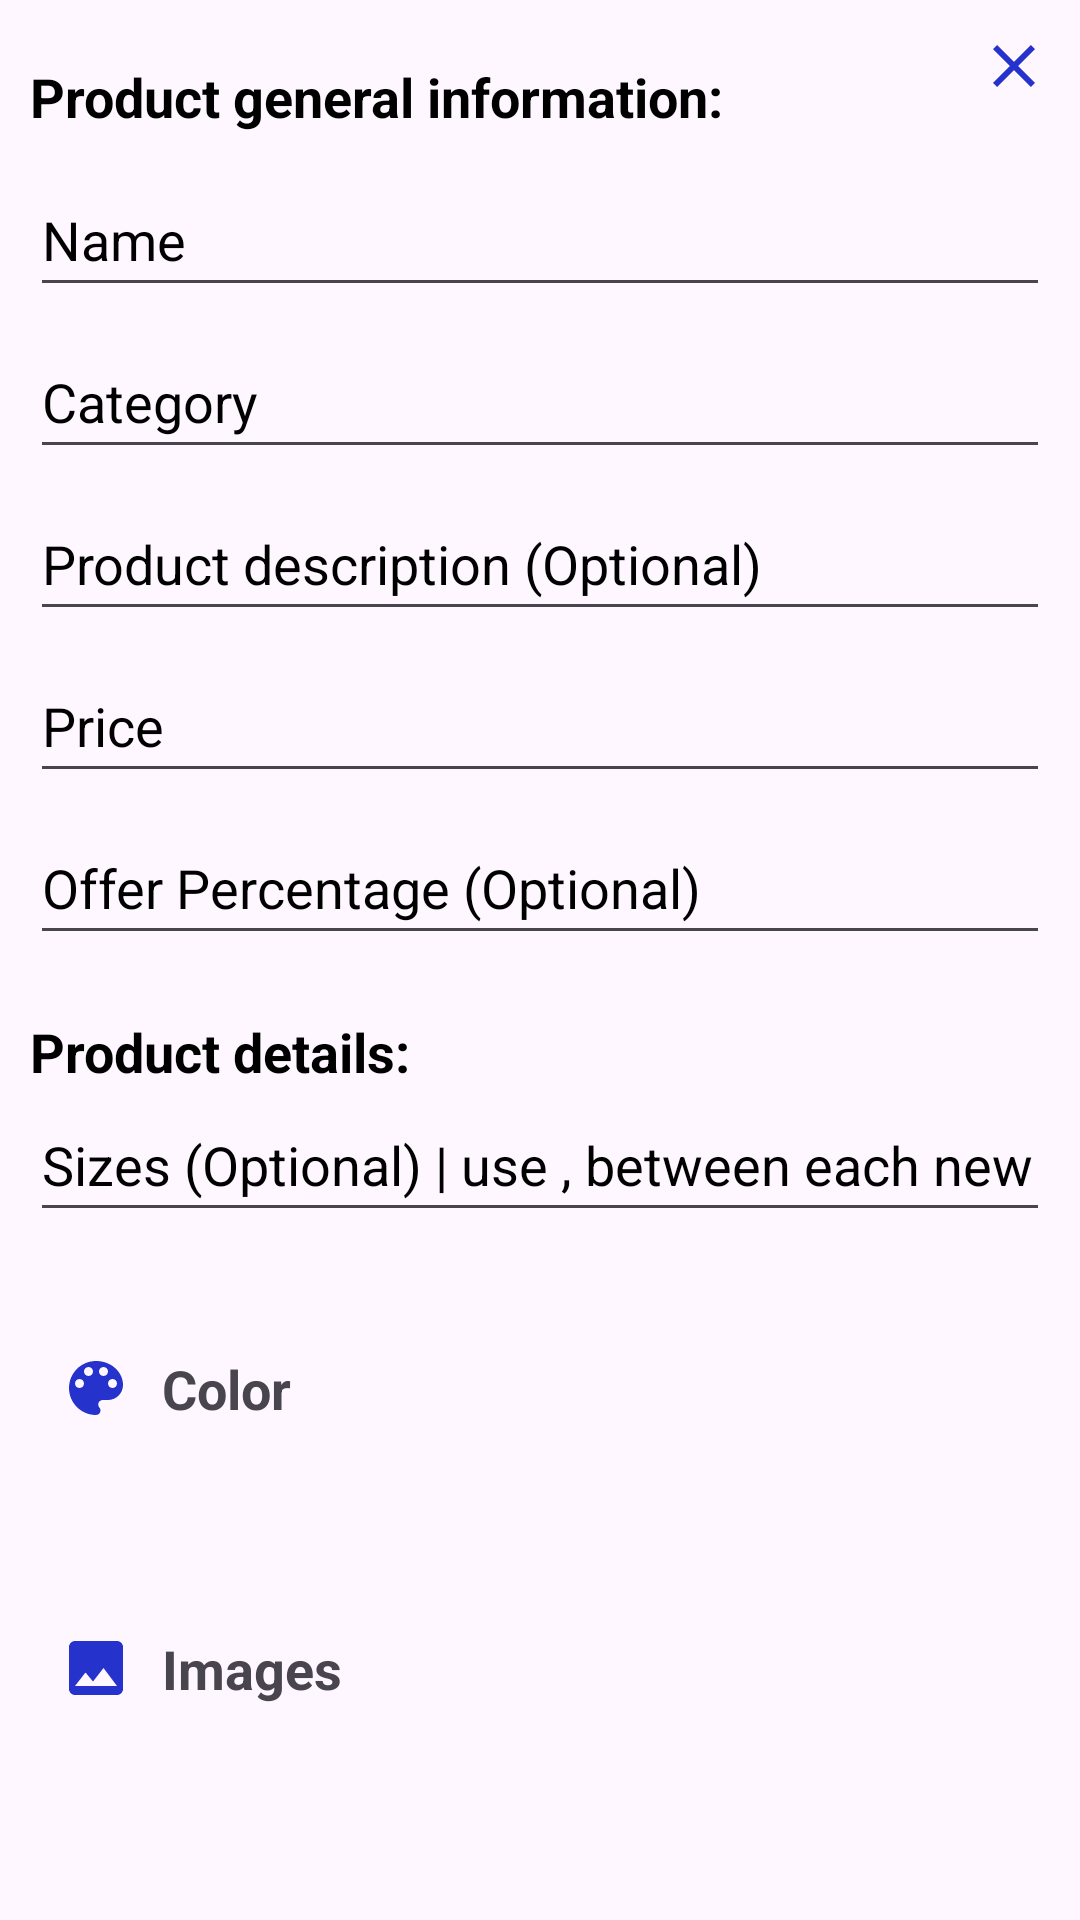

Icons on this 1080w x 1920h Android screen, each with its box as (x1, y1, x2, y2):
close: (993, 45, 1035, 87)
